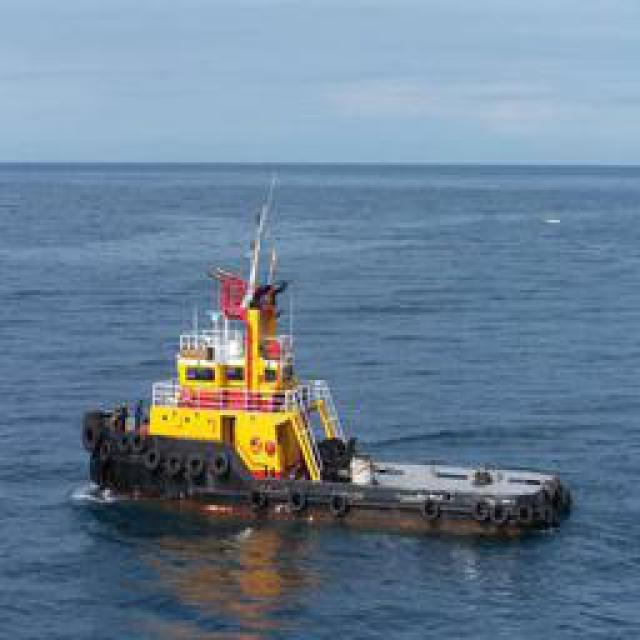Ship: (70, 183, 540, 518)
